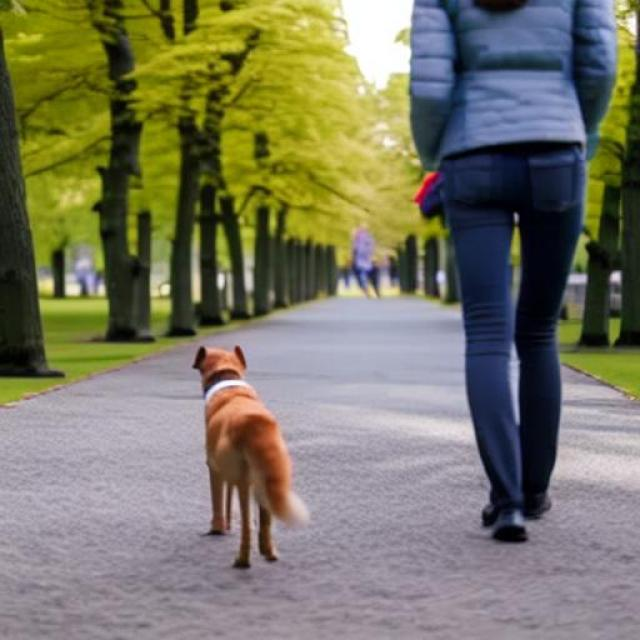Unleashed_Dog: (189, 169, 562, 570)
